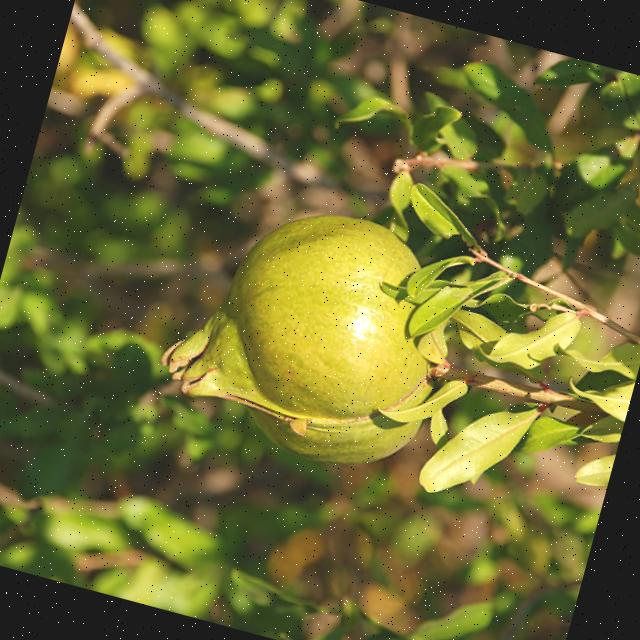Unripe: (142, 174, 480, 487)
